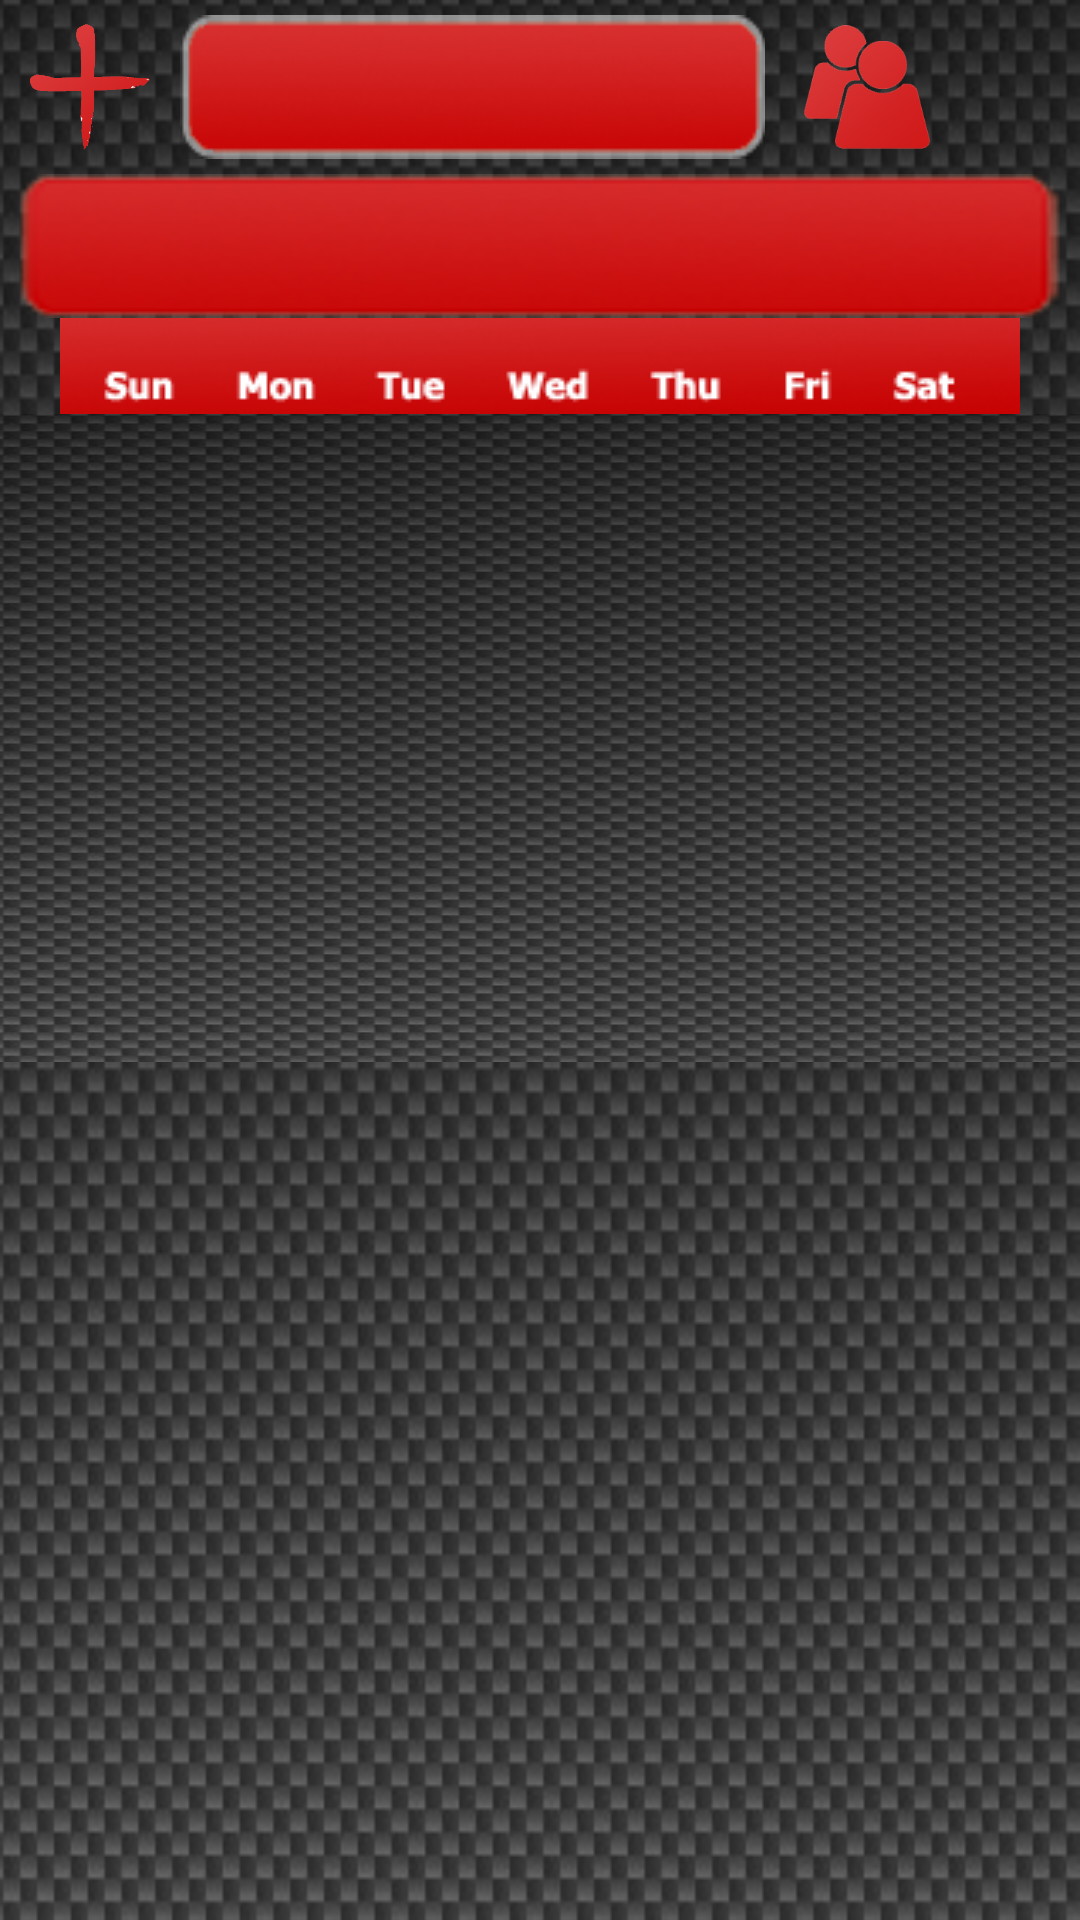

Locate icon controls on the screen. Image size 1080px×1920px, boxes as (x1, y1, x2, y2).
invitation clr: (804, 23, 930, 149)
plus clr: (30, 23, 150, 149)
